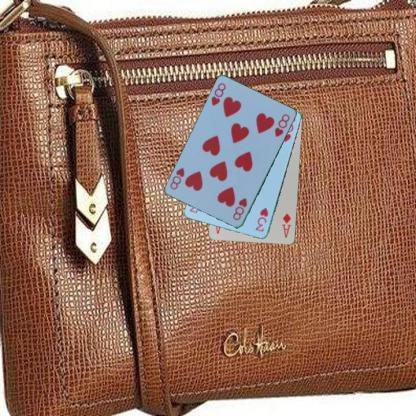3h: (253, 205, 270, 234)
8h: (230, 195, 249, 222), (209, 80, 227, 108)
Ad: (280, 211, 292, 239)
